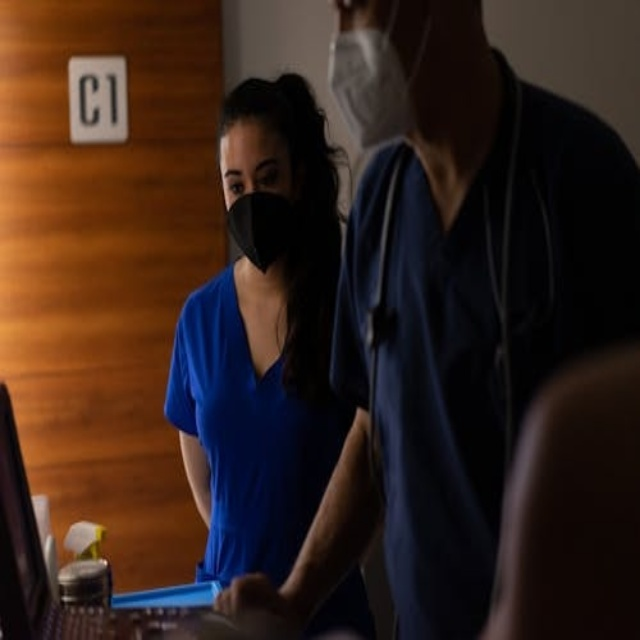Mascara: (329, 3, 424, 157), (226, 190, 300, 273)
Sin_gafas: (223, 156, 275, 194)
